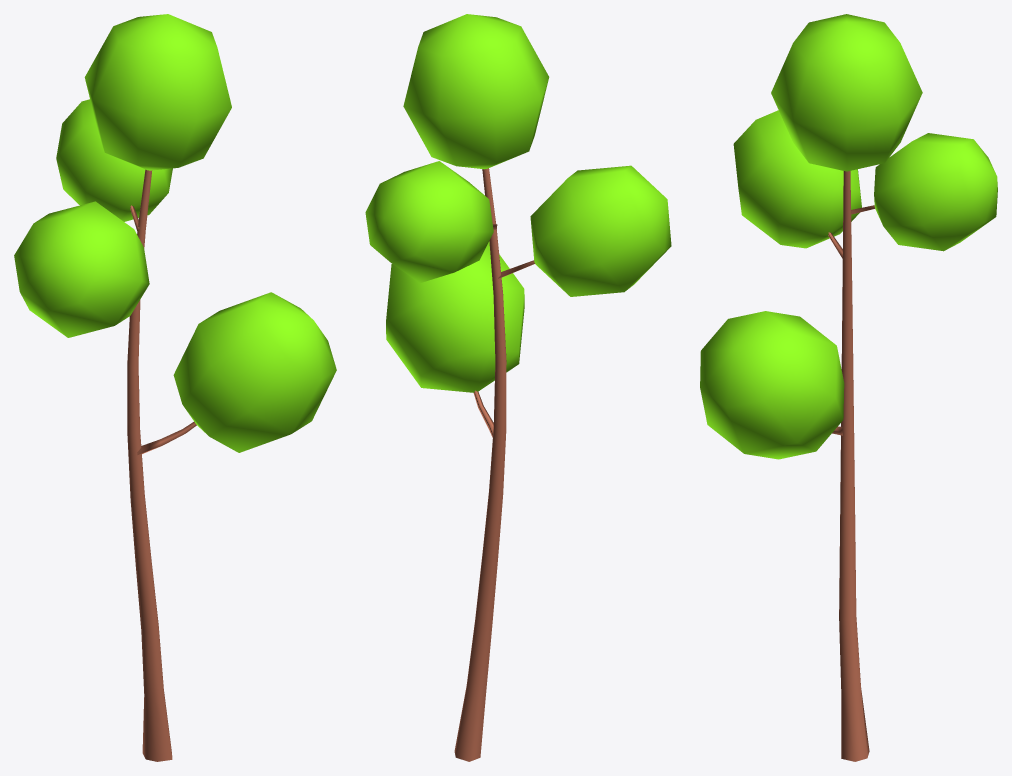
File: Tree_Bobo3.fbx
3 renders of one model, left to right at view 1: azimuth 30°, elevation 25°; view 2: azimuth 150°, elevation 25°; view 3: azimuth 270°, elevation 25°, orthographic.
Parts seen in each view (by area): view 1: Mesh; view 2: Mesh; view 3: Mesh.
Part boxes in pixels (x1,y1,x2,y2): Mesh: [14, 14, 336, 761]; Mesh: [365, 14, 671, 761]; Mesh: [700, 14, 997, 761].
Size of the model in its own units: 1330 by 3238 by 1188.
